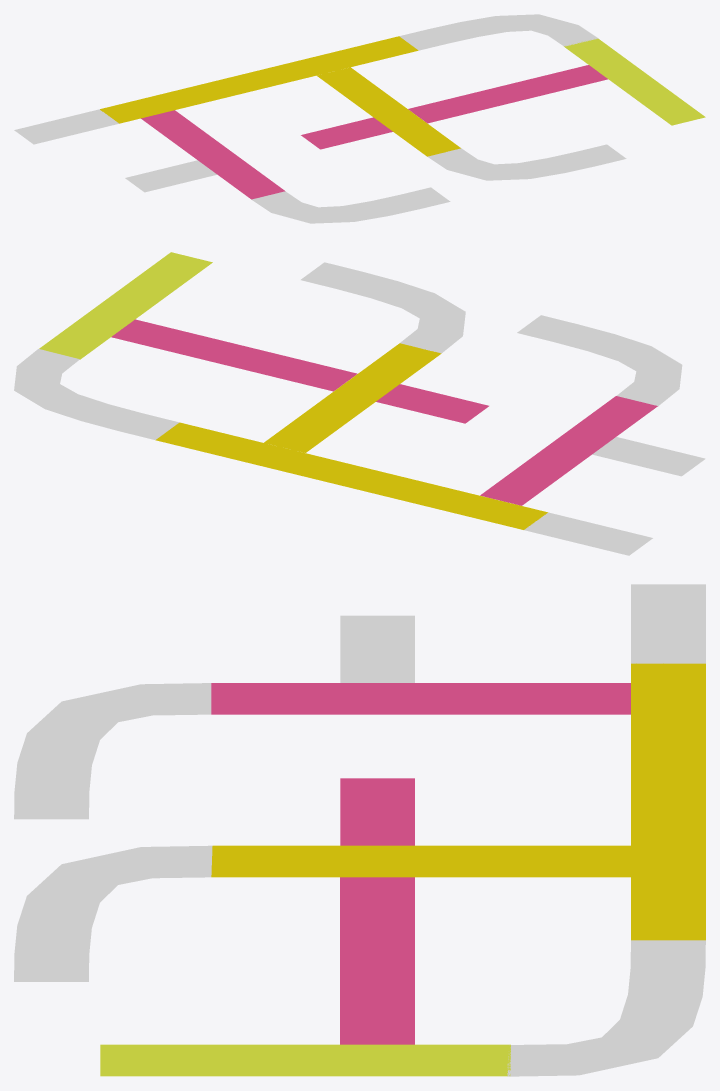
Rendered from road_backup.dae.
3 views of the same model, one above another, from view 1: azimuth 30°, elevation 25°; view 2: azimuth 150°, elevation 25°; view 3: azimuth 270°, elevation 25° (orthographic). The views are drawn at different scales.
Parts seen in each view (by area): view 1: road_large, roaf_medium.002, roaf_medium.001, roaf_medium, roaf_medium.003, turning.001, turning, turning.003, road_small.001, road_small.002, road_small.004; view 2: road_large, roaf_medium.001, roaf_medium.002, roaf_medium, roaf_medium.003, turning, turning.001, turning.003, road_small.001, road_small.002, road_small.004; view 3: road_large, roaf_medium.002, roaf_medium, roaf_medium.001, roaf_medium.003, turning.003, turning.001, turning, road_small.001, road_small.004, road_small.002.
Part boxes in pixels (bbox=[...]): road_large: bbox=[100, 36, 418, 123]; roaf_medium.002: bbox=[317, 67, 460, 156]; roaf_medium.001: bbox=[141, 110, 285, 199]; roaf_medium: bbox=[564, 38, 705, 125]; roaf_medium.003: bbox=[408, 65, 607, 123]; turning.001: bbox=[427, 144, 626, 180]; turning: bbox=[399, 14, 598, 50]; turning.003: bbox=[251, 187, 450, 223]; road_small.001: bbox=[14, 109, 118, 144]; road_small.002: bbox=[301, 117, 392, 149]; road_small.004: bbox=[125, 160, 216, 192]; road_large: bbox=[155, 422, 547, 529]; roaf_medium.001: bbox=[480, 396, 657, 505]; roaf_medium.002: bbox=[264, 343, 441, 452]; roaf_medium: bbox=[39, 252, 212, 359]; roaf_medium.003: bbox=[111, 319, 357, 391]; turning: bbox=[14, 349, 179, 439]; turning.001: bbox=[301, 262, 465, 353]; turning.003: bbox=[517, 315, 682, 405]; road_small.001: bbox=[524, 512, 652, 555]; road_small.002: bbox=[376, 384, 488, 423]; road_small.004: bbox=[592, 437, 705, 476]; road_large: bbox=[631, 663, 705, 940]; roaf_medium.002: bbox=[211, 845, 630, 877]; roaf_medium: bbox=[100, 1044, 510, 1076]; roaf_medium.001: bbox=[211, 683, 630, 714]; roaf_medium.003: bbox=[340, 877, 414, 1044]; turning.003: bbox=[14, 683, 211, 819]; turning.001: bbox=[14, 845, 212, 981]; turning: bbox=[507, 940, 705, 1076]; road_small.001: bbox=[631, 584, 705, 663]; road_small.004: bbox=[340, 615, 414, 682]; road_small.002: bbox=[340, 778, 414, 845].
Size of the model in its own units: 113 by 66.89 by 0.01.
